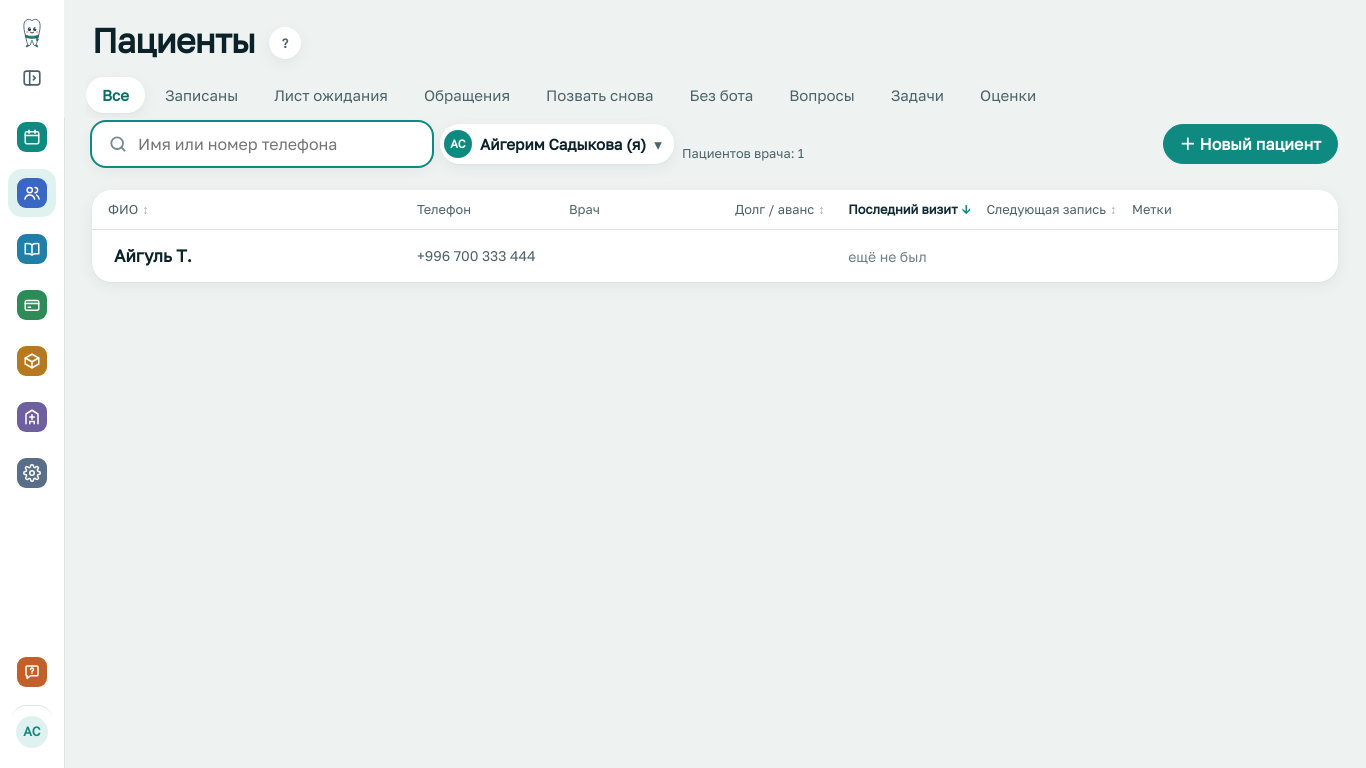
Test: семья: общий долг и «Оплатить за семью» одной суммой
Later steps or results of the test are not shown.
Click the button "Айгуль Т." at (153, 256), box x1=114 y1=243 x2=192 y2=269
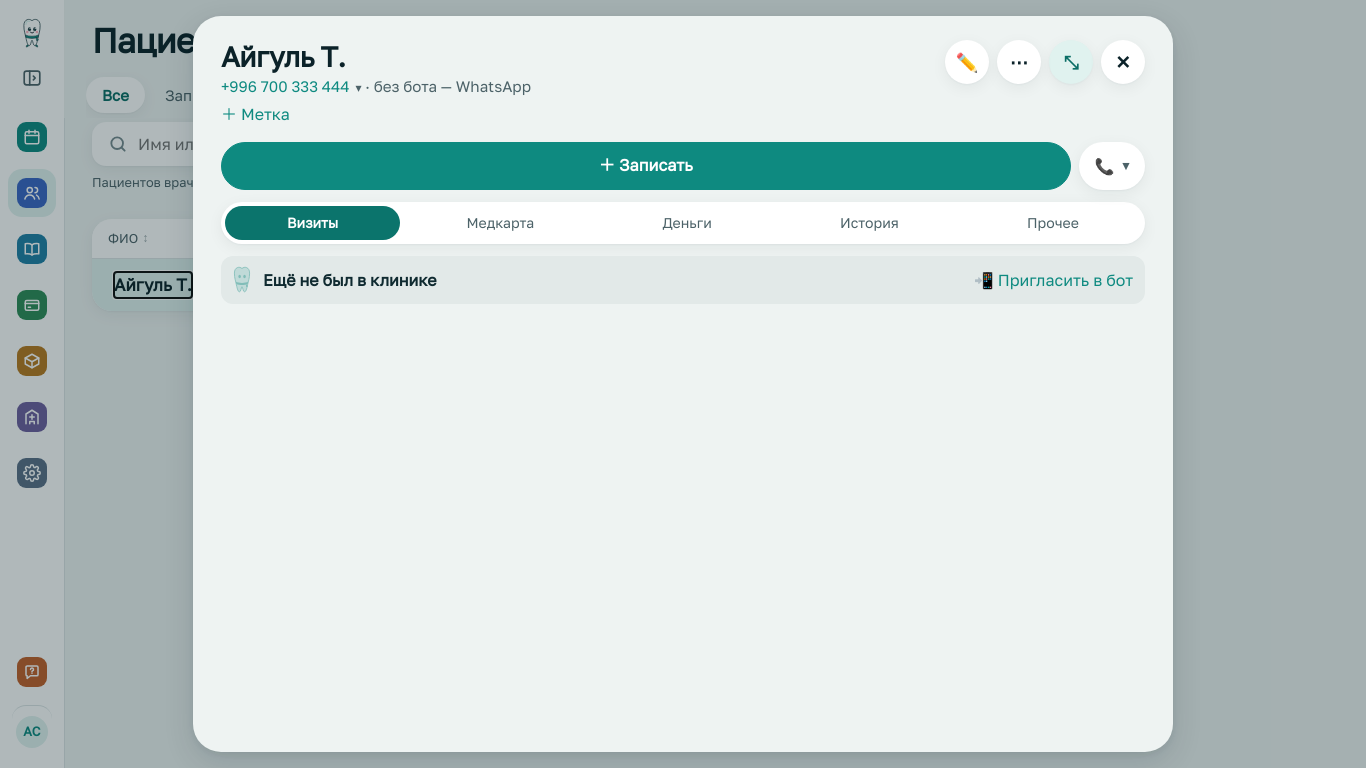
Click the tab "Прочее" at (1053, 223), box x1=965 y1=206 x2=1141 y2=240
(page scrolled)
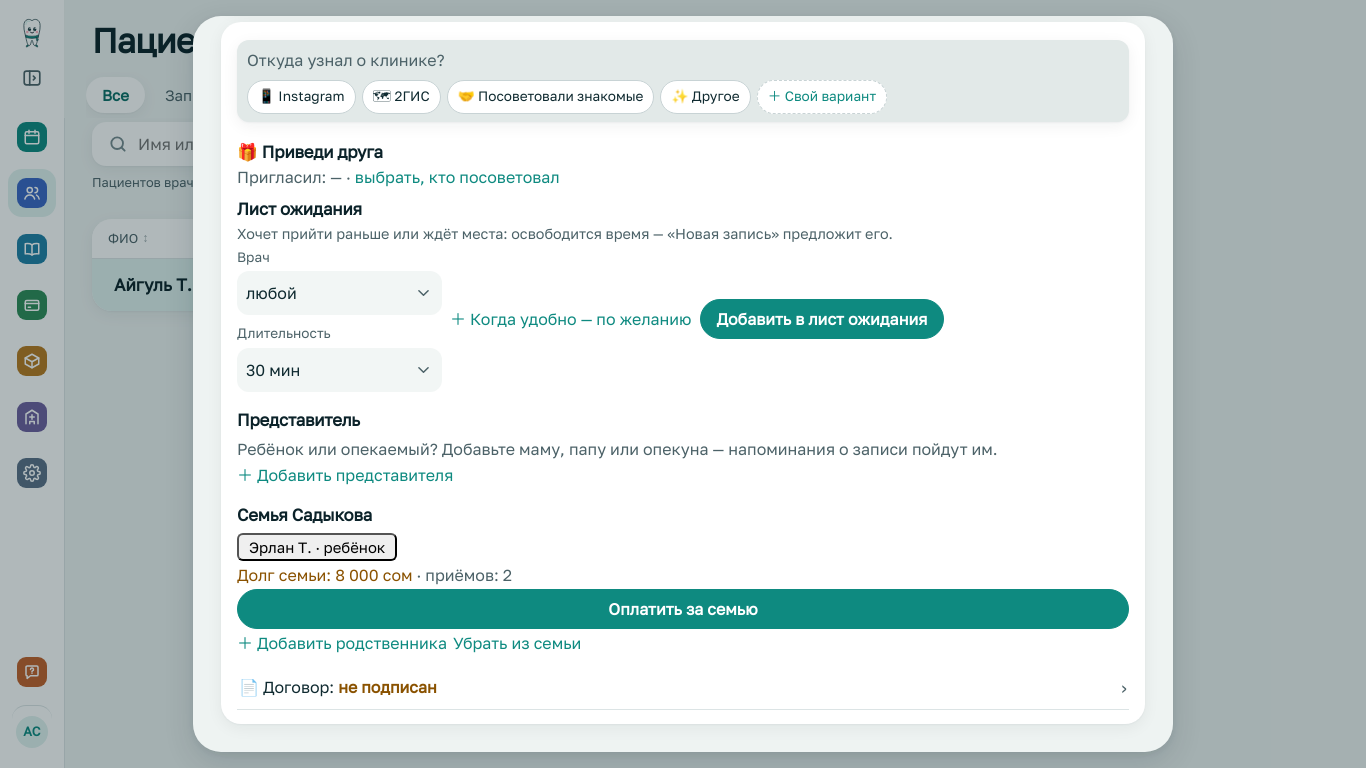
Result: the text "Долг семьи: 8 000 сом · приёмов: 2" is shown at x1=237 y1=565 x2=512 y2=585
